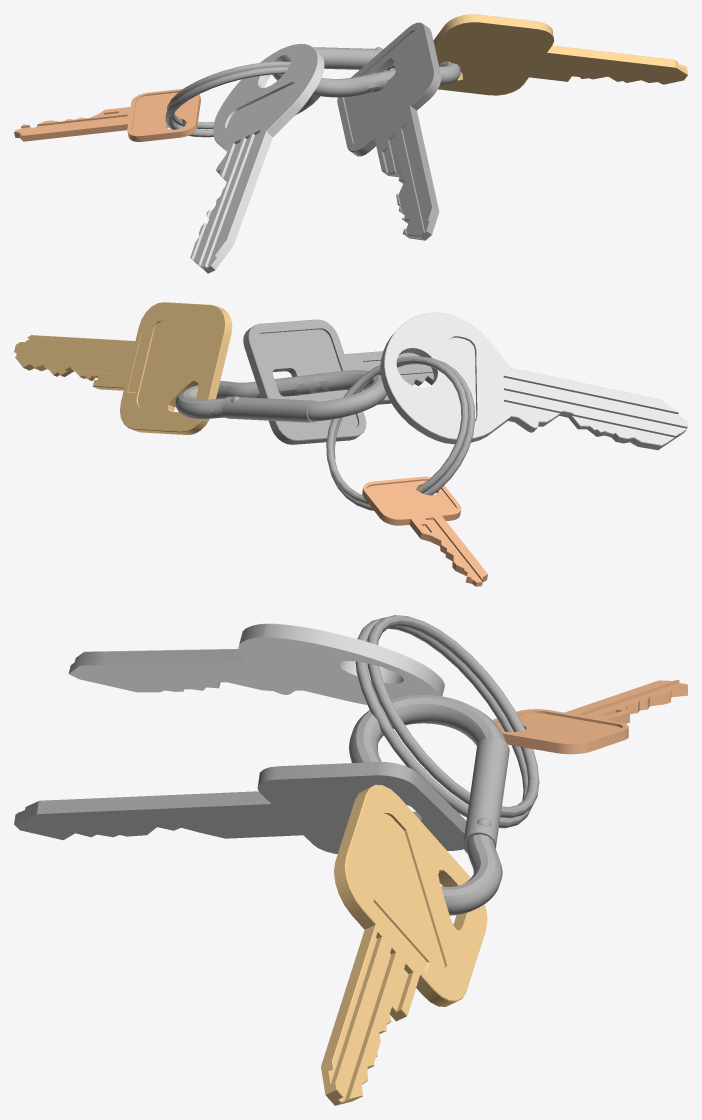
File: keys.glb
3 renders of one model, top to bottom at view 1: azimuth 30°, elevation 25°; view 2: azimuth 150°, elevation 25°; view 3: azimuth 270°, elevation 25°, orthographic. The views are drawn at different scales.
Parts seen in each view (by area): view 1: Cube.610, Plane.011, Cube.609, Cube.611, NurbsPath.253, Circle; view 2: Cube.609, Plane.011, Cube.610, NurbsPath.253, Cube.611, Circle; view 3: Plane.011, Cube.610, Cube.609, NurbsPath.253, Circle, Cube.611.
Boxes of the visible parts, x1=… form: Cube.610: x1=337, y1=22, x2=441, y2=240; Plane.011: x1=433, y1=14, x2=687, y2=95; Cube.609: x1=190, y1=44, x2=324, y2=273; Cube.611: x1=14, y1=88, x2=200, y2=141; NurbsPath.253: x1=272, y1=47, x2=460, y2=97; Circle: x1=165, y1=61, x2=319, y2=137; Cube.609: x1=380, y1=312, x2=687, y2=450; Plane.011: x1=14, y1=302, x2=232, y2=434; Cube.610: x1=243, y1=319, x2=433, y2=444; NurbsPath.253: x1=175, y1=370, x2=386, y2=422; Cube.611: x1=362, y1=476, x2=487, y2=586; Circle: x1=326, y1=356, x2=475, y2=510; Plane.011: x1=321, y1=784, x2=487, y2=1105; Cube.610: x1=14, y1=762, x2=466, y2=853; Cube.609: x1=68, y1=623, x2=444, y2=704; NurbsPath.253: x1=349, y1=695, x2=509, y2=915; Circle: x1=355, y1=615, x2=539, y2=828; Cube.611: x1=492, y1=680, x2=687, y2=754.
Bounding box in the file's own units: 0.1535 × 0.0343 × 0.1024.
